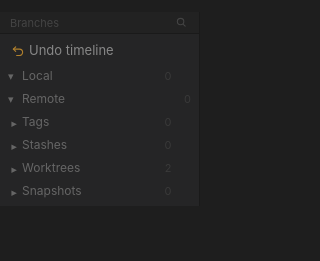
Test: BranchPane — worktrees rendering › renders a row per worktree with the branch label and a "main" badge
Click the text "Worktrees": {"x": 51, "y": 168} [22, 160, 80, 175]
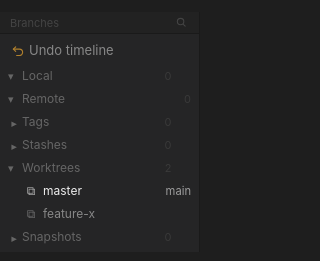
Expected: the number of options with class "worktree" is 2, [27, 183, 191, 198]; [27, 206, 95, 221]
Expected: the text "feature-x" is shown, [43, 206, 95, 221]
Expected: the text with class "track" reads "main", [166, 184, 191, 198]
